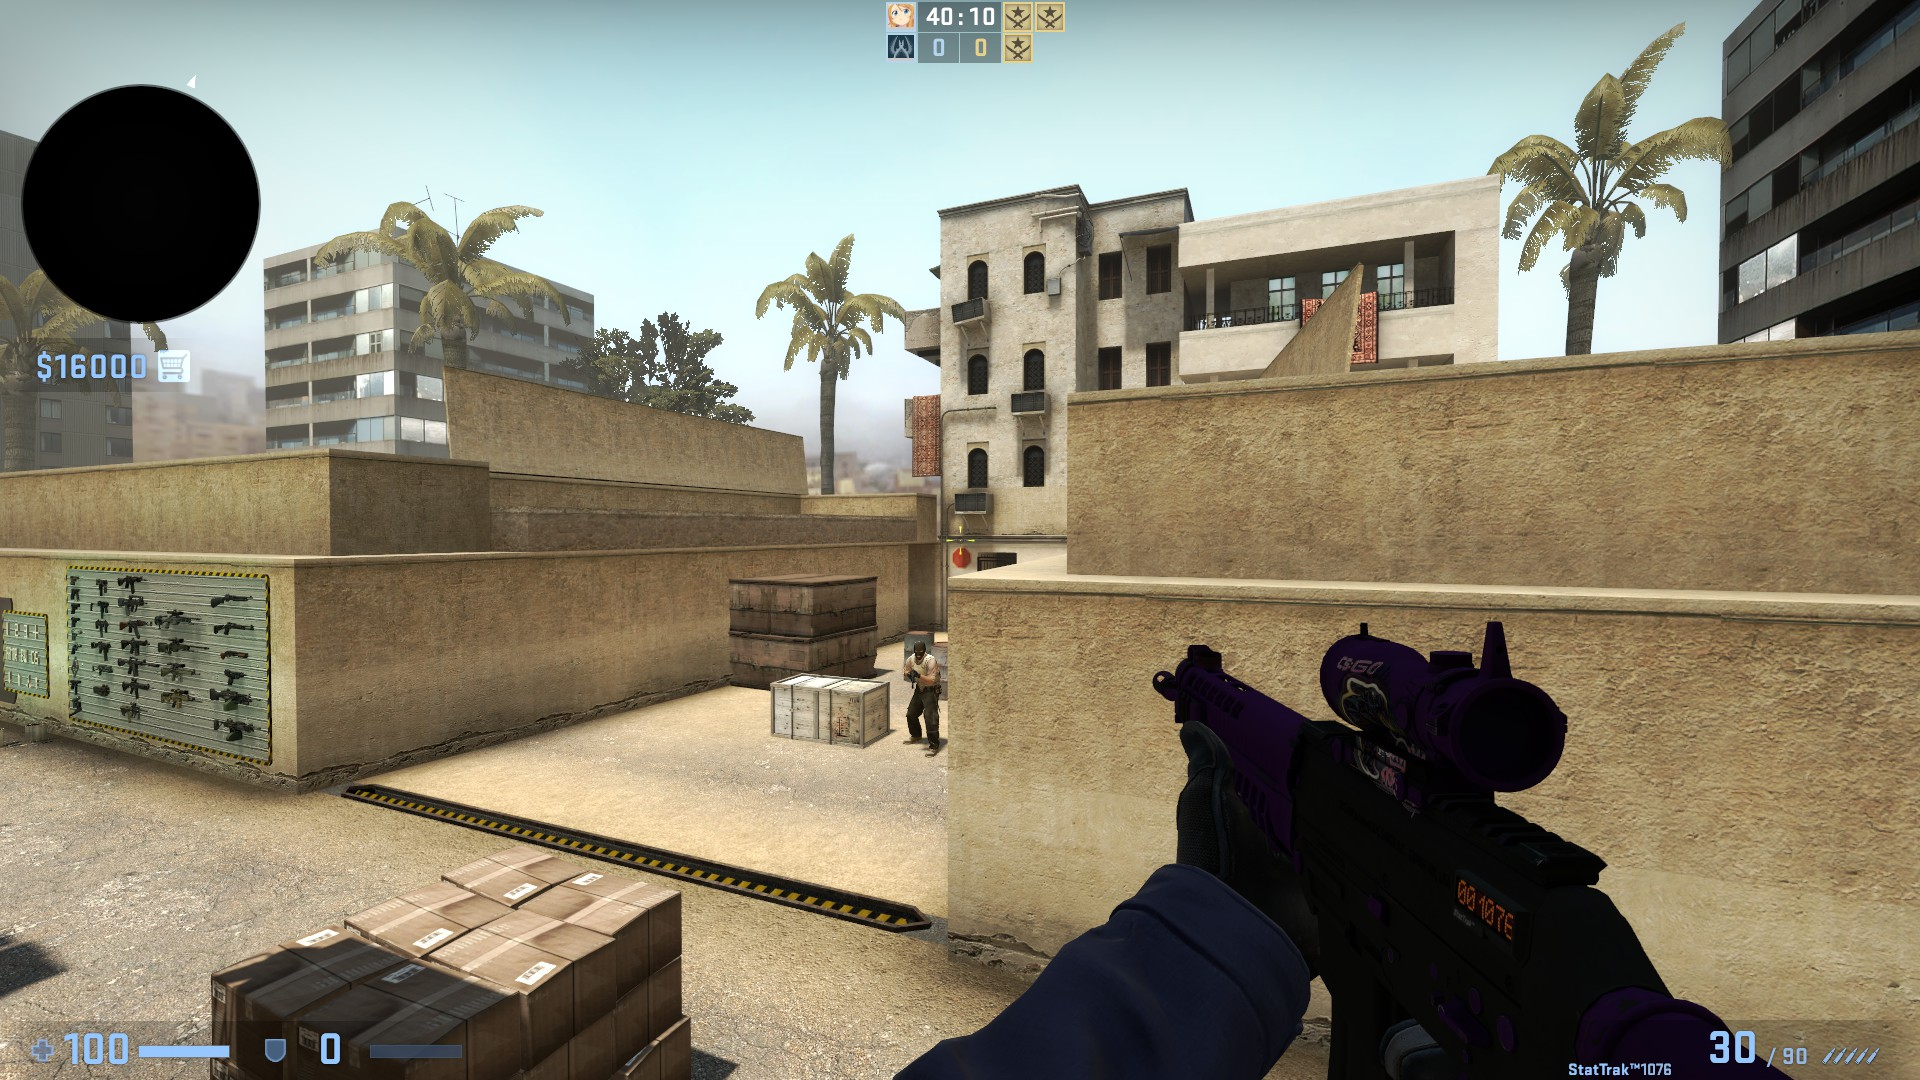head: (912, 638, 925, 660)
